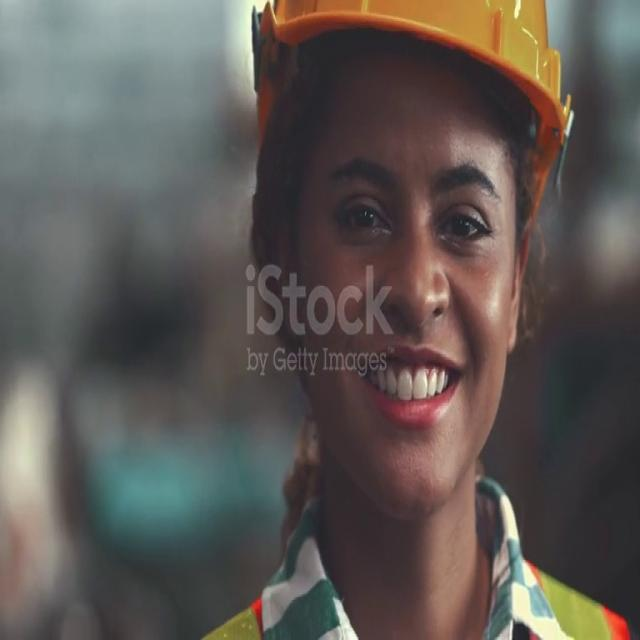capacete: (234, 0, 584, 208)
